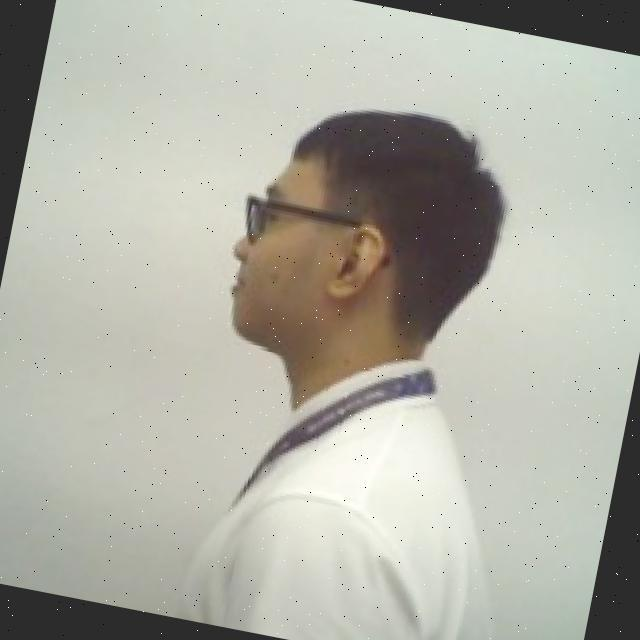no_gloves: (260, 83, 530, 342)
no_hairnet: (202, 202, 398, 375)
